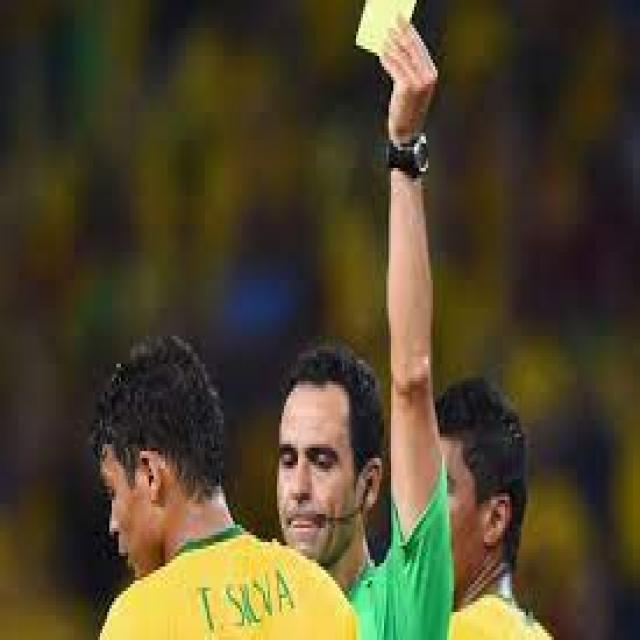yellow-card: (351, 0, 440, 190)
